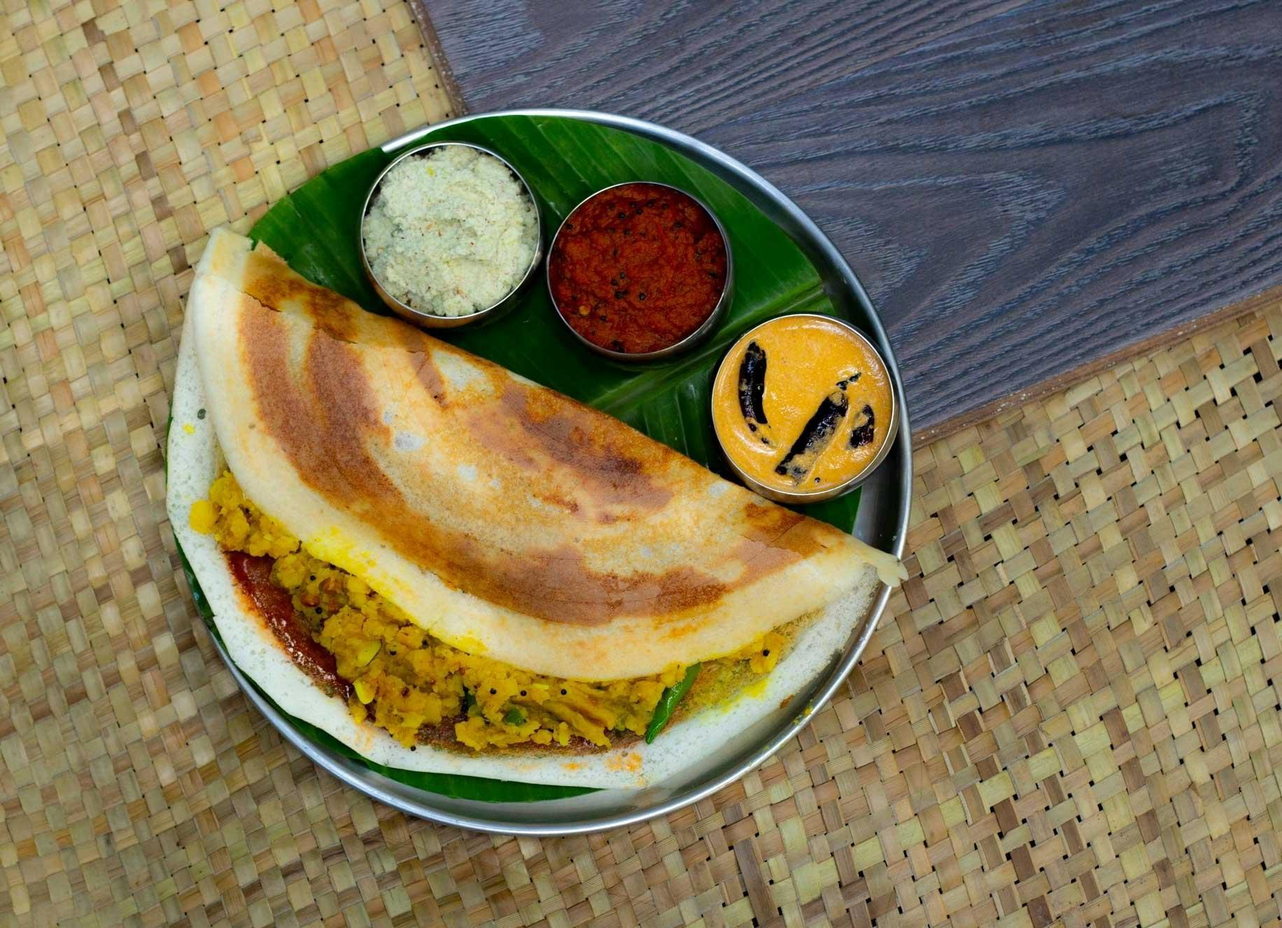Dosa: (166, 233, 908, 781)
